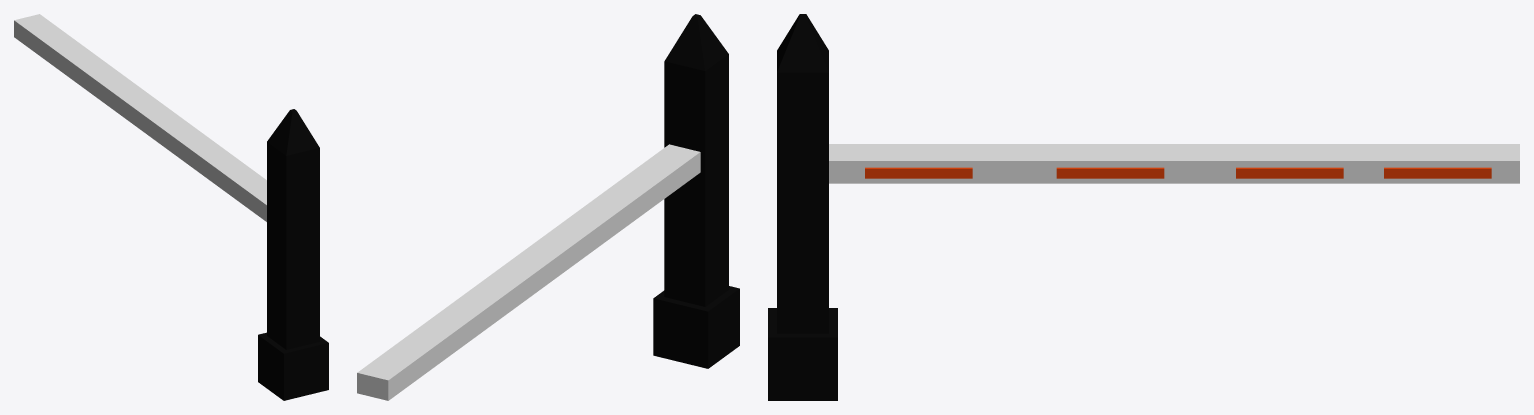
File: barrier.fbx
3 renders of one model, left to right at view 1: azimuth 30°, elevation 25°; view 2: azimuth 150°, elevation 25°; view 3: azimuth 270°, elevation 25°, orthographic. The views are drawn at different scales.
Parts seen in each view (by area): view 1: Cube.025, Cube.030; view 2: Cube.025, Cube.030; view 3: Cube.030, Cube.025.
Boxes of the visible parts, x1,y1,x2,y2 form: Cube.025: (258, 109, 328, 400); Cube.030: (14, 14, 266, 221); Cube.025: (653, 14, 739, 368); Cube.030: (357, 144, 700, 400); Cube.030: (829, 144, 1519, 183); Cube.025: (768, 14, 837, 400).
Bounding box in the file's own units: 7.5 × 43.84 × 80.57.
